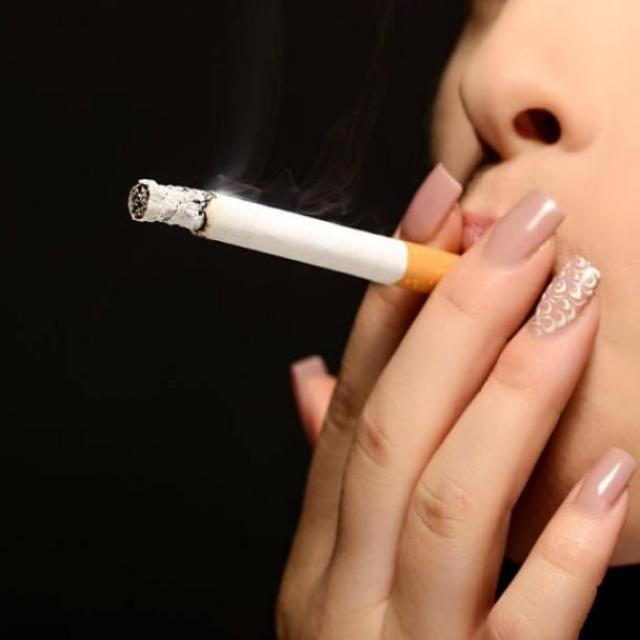rokok: (120, 168, 462, 310)
